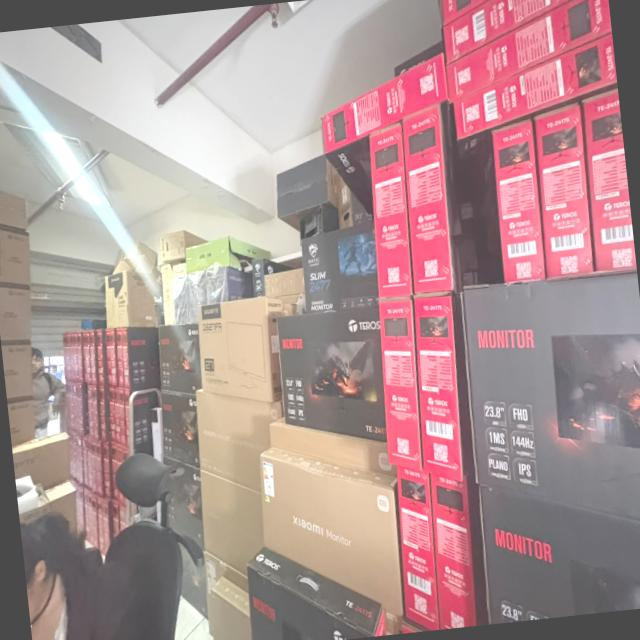caja-monitor: (461, 273, 640, 520), (260, 444, 404, 614), (479, 486, 640, 623), (451, 31, 615, 144), (446, 0, 611, 103), (277, 311, 388, 443), (320, 51, 447, 157), (247, 545, 387, 640), (400, 105, 458, 294), (534, 106, 594, 276), (414, 294, 464, 481), (584, 93, 636, 271), (490, 121, 546, 283), (196, 391, 281, 492), (442, 0, 571, 63), (197, 295, 272, 402), (369, 120, 413, 298), (302, 220, 380, 317), (430, 471, 477, 628), (269, 422, 398, 478), (199, 470, 265, 576), (396, 465, 438, 629), (380, 303, 421, 466), (162, 388, 200, 468), (158, 324, 202, 392), (210, 574, 253, 640), (441, 0, 487, 25), (120, 327, 130, 388), (98, 384, 108, 443), (115, 328, 124, 386), (96, 329, 105, 385), (112, 386, 121, 441), (109, 328, 117, 385), (104, 329, 112, 384), (89, 330, 97, 384), (82, 331, 90, 382), (118, 387, 125, 442), (109, 386, 116, 440), (92, 386, 99, 440), (87, 384, 93, 439)
